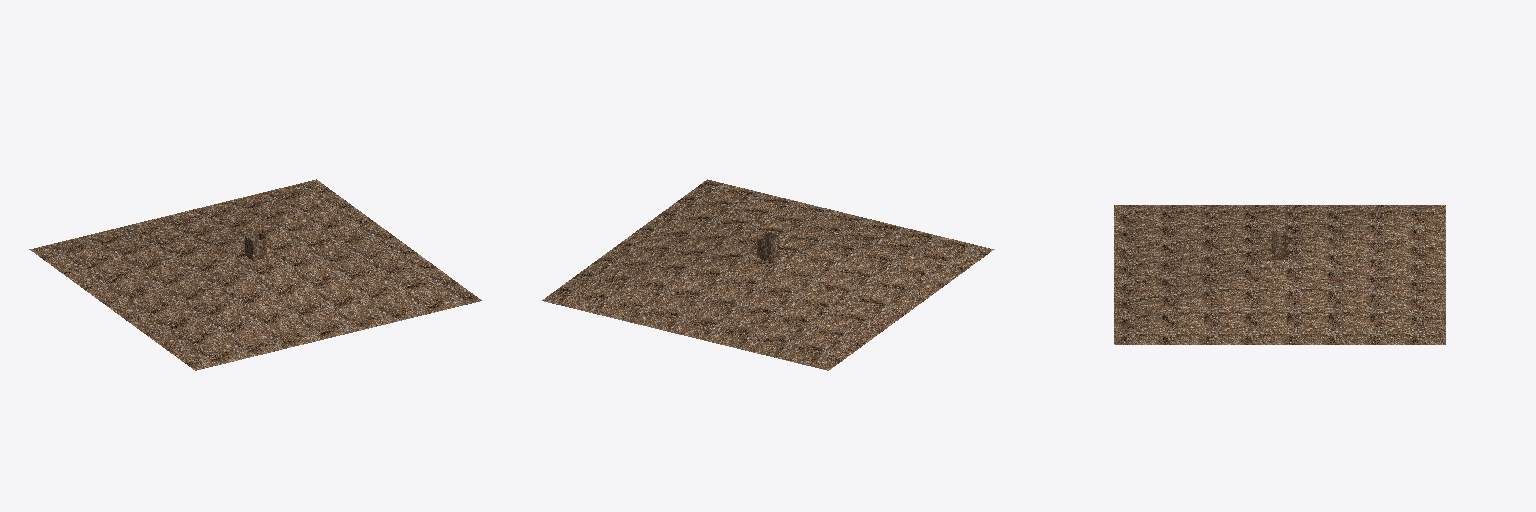
The picture shows the model from 3 angles: view 1: azimuth 30°, elevation 25°; view 2: azimuth 150°, elevation 25°; view 3: azimuth 270°, elevation 25°; orthographic projection.
Parts seen in each view (by area): view 1: room_ceiling.obj; view 2: room_ceiling.obj; view 3: room_ceiling.obj.
Part boxes in pixels (x1,y1,x2,y2): room_ceiling.obj: (29, 179, 481, 370); room_ceiling.obj: (542, 179, 994, 370); room_ceiling.obj: (1114, 205, 1445, 344).
Size of the model in its own units: 4 by 0.51 by 4.
Materials: 1 (1 with a texture image).